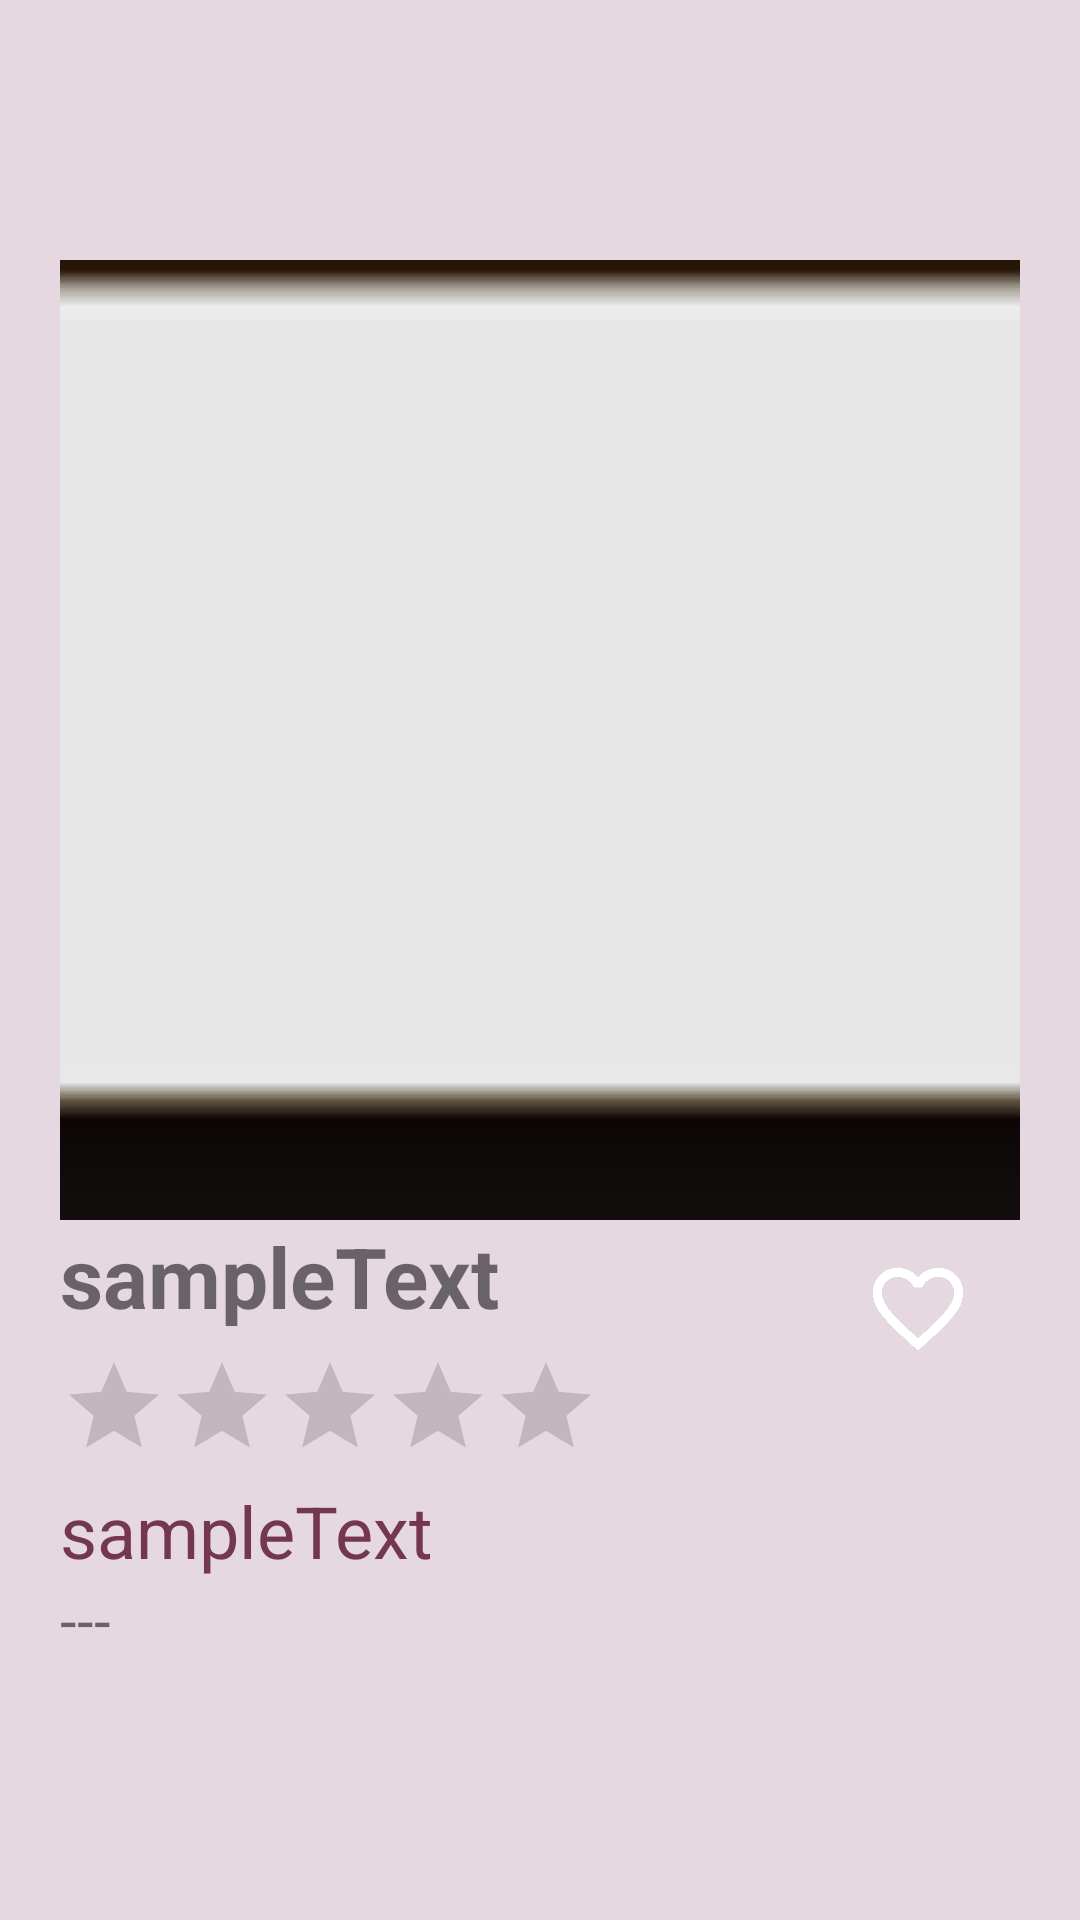

Icon click points for this 1080 × 1920 phone screenshot, format (x=x, y=y):
fav empty: (x=918, y=1309)
